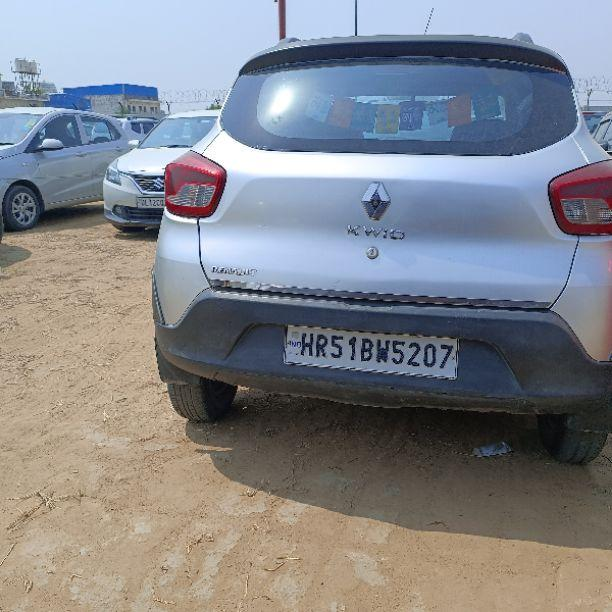license_plate: (281, 323, 459, 380)
